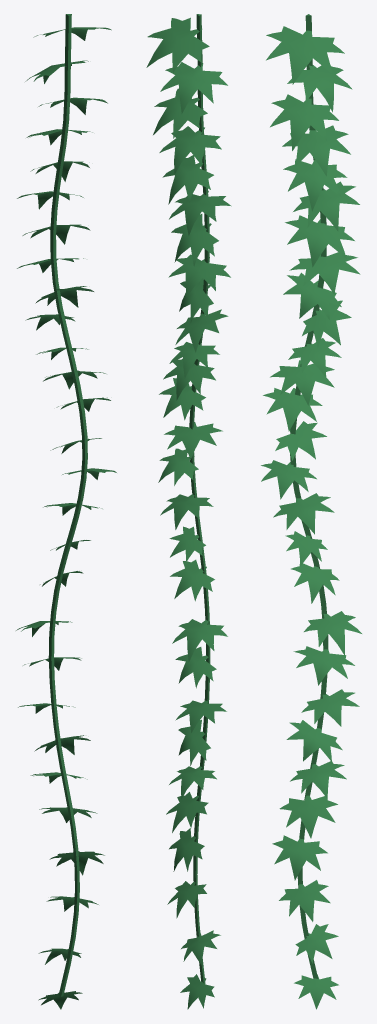
File: vine_curved_A_alangium.fbx
3 views of the same model, side by side, from view 1: azimuth 90°, elevation 25°; view 2: azimuth 210°, elevation 25°; view 3: azimuth 270°, elevation 25° (orthographic).
Parts seen in each view (by area): view 1: vine_curved_A_alangium_root, vine_alangium_A_leaf_B532, vine_alangium_A_leaf_B523, vine_alangium_A_leaf_B517, vine_alangium_A_leaf_B530, vine_alangium_A_leaf_B537, vine_alangium_A_leaf_B516, vine_alangium_A_leaf_B515, vine_alangium_A_leaf_B533, vine_alangium_A_leaf_B513, vine_alangium_A_leaf_B536, vine_alangium_A_leaf_B514 (+2 smaller); view 2: vine_curved_A_alangium_root, vine_alangium_A_leaf_B518, vine_alangium_A_leaf_B515, vine_alangium_A_leaf_B, vine_alangium_A_leaf_B516, vine_alangium_A_leaf_B514, vine_alangium_A_leaf_B519, vine_alangium_A_leaf_B517, vine_alangium_A_leaf_B513, vine_alangium_A_leaf_B534, vine_alangium_A_leaf_B528, vine_alangium_A_leaf_B538 (+17 smaller); view 3: vine_curved_A_alangium_root, vine_alangium_A_leaf_B518, vine_alangium_A_leaf_B516, vine_alangium_A_leaf_B517, vine_alangium_A_leaf_B514, vine_alangium_A_leaf_B, vine_alangium_A_leaf_B513, vine_alangium_A_leaf_B519, vine_alangium_A_leaf_B515, vine_alangium_A_leaf_B522, vine_alangium_A_leaf_B533, vine_alangium_A_leaf_B523 (+17 smaller).
Part boxes in pixels (x1,y1,x2,y2): vine_curved_A_alangium_root: (48,14,87,996); vine_alangium_A_leaf_B532: (49,851,104,875); vine_alangium_A_leaf_B523: (35,286,93,307); vine_alangium_A_leaf_B517: (22,224,90,244); vine_alangium_A_leaf_B530: (34,735,90,754); vine_alangium_A_leaf_B537: (38,991,82,1009); vine_alangium_A_leaf_B516: (38,97,107,114); vine_alangium_A_leaf_B515: (25,60,88,83); vine_alangium_A_leaf_B533: (39,807,97,822); vine_alangium_A_leaf_B513: (17,191,83,209); vine_alangium_A_leaf_B536: (46,896,98,911); vine_alangium_A_leaf_B514: (30,161,89,181); vine_curved_A_alangium_root: (189,14,210,984); vine_alangium_A_leaf_B518: (146,17,209,72); vine_alangium_A_leaf_B515: (160,62,227,113); vine_alangium_A_leaf_B: (159,126,221,174); vine_alangium_A_leaf_B516: (153,88,207,138); vine_alangium_A_leaf_B514: (162,155,213,204); vine_alangium_A_leaf_B519: (168,254,230,297); vine_alangium_A_leaf_B517: (171,214,218,266); vine_alangium_A_leaf_B513: (169,190,231,235); vine_alangium_A_leaf_B534: (172,619,227,662); vine_alangium_A_leaf_B528: (164,422,222,459); vine_alangium_A_leaf_B538: (170,559,214,601); vine_curved_A_alangium_root: (290,14,328,978); vine_alangium_A_leaf_B518: (266,26,344,84); vine_alangium_A_leaf_B516: (270,94,338,150); vine_alangium_A_leaf_B517: (285,215,354,267); vine_alangium_A_leaf_B514: (283,159,347,211); vine_alangium_A_leaf_B: (282,125,350,176); vine_alangium_A_leaf_B513: (293,181,359,231); vine_alangium_A_leaf_B519: (289,252,360,294); vine_alangium_A_leaf_B515: (287,65,352,112); vine_alangium_A_leaf_B522: (270,360,334,405); vine_alangium_A_leaf_B533: (279,795,337,838); vine_alangium_A_leaf_B523: (283,272,341,319).
Bounding box in the file's own units: 35.82 × 525 × 49.34.
